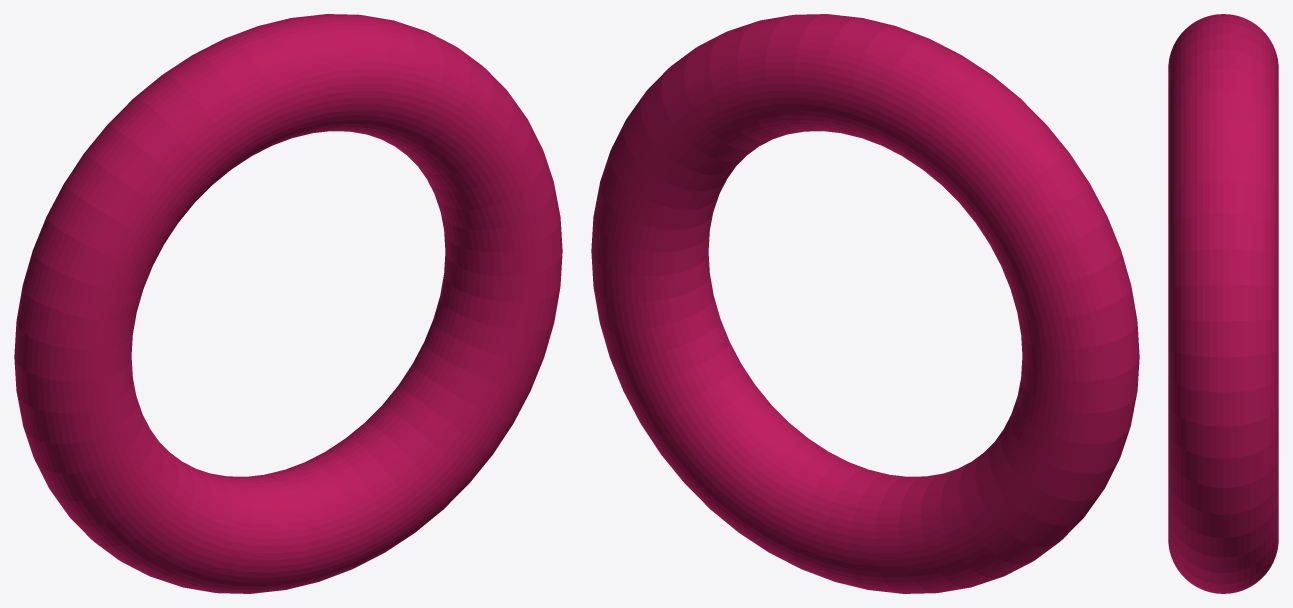
3 views of the same model, side by side, from view 1: azimuth 30°, elevation 25°; view 2: azimuth 150°, elevation 25°; view 3: azimuth 270°, elevation 25° (orthographic). The views are drawn at different scales.
Visible parts, largest first — view 1: world; view 2: world; view 3: world.
Boxes of the visible parts, box(x1,y1,x2,y2) form: world: box(14, 14, 562, 593); world: box(591, 14, 1139, 593); world: box(1168, 14, 1278, 593).
Bounding box in the file's own units: 37.07 × 36.99 × 7.05.
